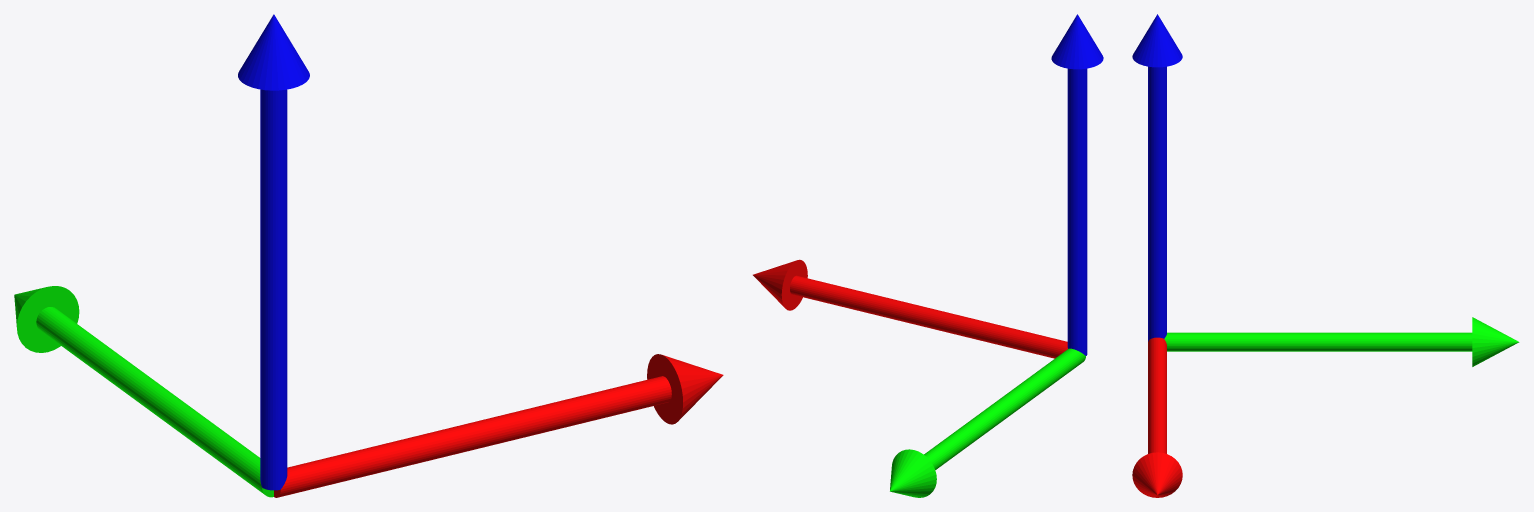
The model's file is triad.obj.
3 renders of one model, left to right at view 1: azimuth 30°, elevation 25°; view 2: azimuth 150°, elevation 25°; view 3: azimuth 270°, elevation 25°, orthographic. The views are drawn at different scales.
Visible parts, largest first — view 1: Cube.001_Cube.003; view 2: Cube.001_Cube.003; view 3: Cube.001_Cube.003.
Part boxes in pixels (x1,y1,x2,y2): Cube.001_Cube.003: [14, 14, 723, 497]; Cube.001_Cube.003: [753, 14, 1103, 497]; Cube.001_Cube.003: [1132, 14, 1519, 497].
Size of the model in its own units: 1.23 by 1.23 by 1.23.
